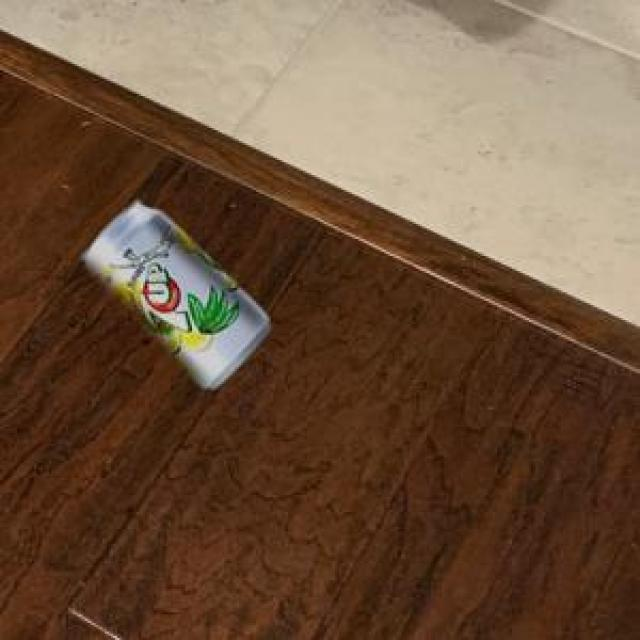Can: (82, 197, 266, 385)
